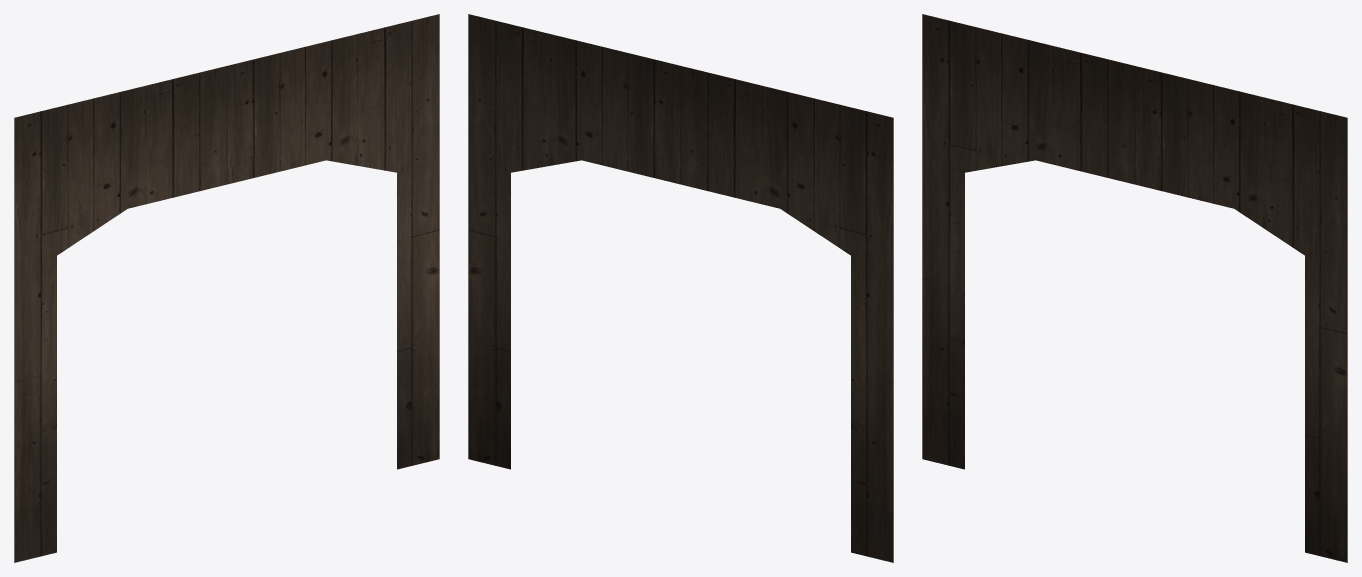
Rendered from Wall.W_3x3_Archway.Big.fbx.
3 renders of one model, left to right at view 1: azimuth 30°, elevation 25°; view 2: azimuth 150°, elevation 25°; view 3: azimuth 330°, elevation 25°, orthographic.
Visible parts, largest first — view 1: Wall.W_3x3_Archway.Big; view 2: Wall.W_3x3_Archway.Big; view 3: Wall.W_3x3_Archway.Big.
Boxes of the visible parts, left/top/right/bottom form: Wall.W_3x3_Archway.Big: left=14, top=14, right=439, bottom=562; Wall.W_3x3_Archway.Big: left=468, top=14, right=893, bottom=562; Wall.W_3x3_Archway.Big: left=922, top=14, right=1347, bottom=562.
Size of the model in its own units: 300 by 300 by 4.01e-05.
